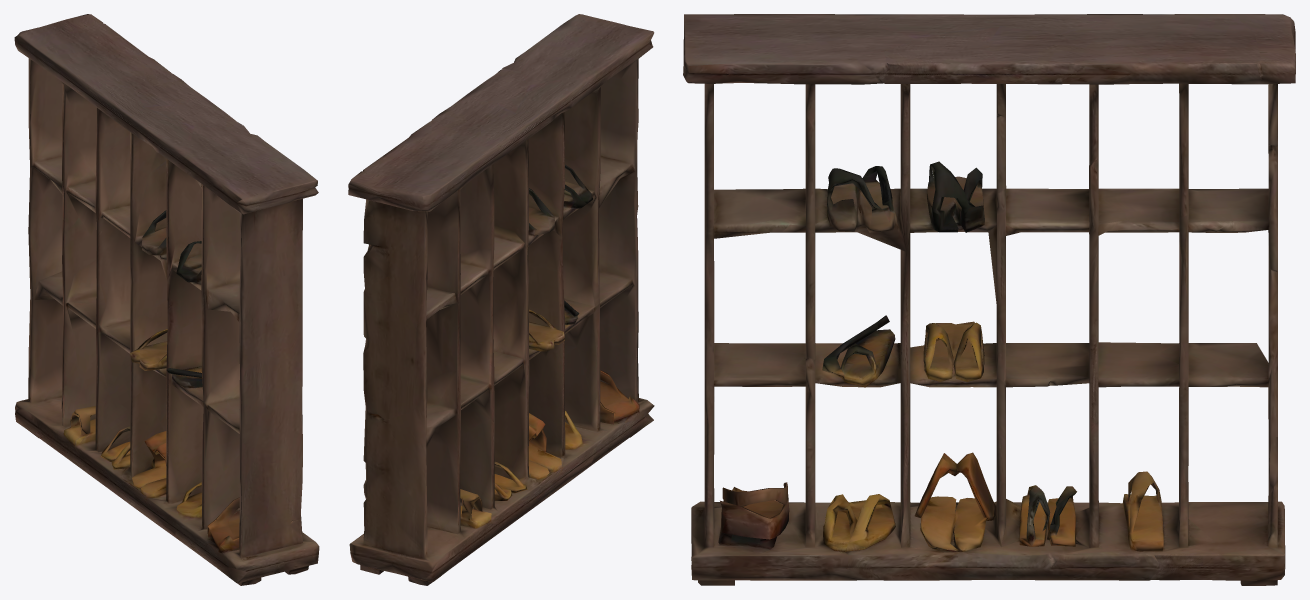
Rendered from getabako.glb.
The picture shows the model from 3 angles, left to right: view 1: azimuth 30°, elevation 25°; view 2: azimuth 150°, elevation 25°; view 3: azimuth 270°, elevation 25°; orthographic projection. The views are drawn at different scales.
Visible parts, largest first — view 1: tripo_node_d88fc85f-368e-4d0c-b570-bd2dc9dc49da; view 2: tripo_node_d88fc85f-368e-4d0c-b570-bd2dc9dc49da; view 3: tripo_node_d88fc85f-368e-4d0c-b570-bd2dc9dc49da.
Boxes of the visible parts, box(x1,y1,x2,y2) form: tripo_node_d88fc85f-368e-4d0c-b570-bd2dc9dc49da: box(14, 14, 319, 585); tripo_node_d88fc85f-368e-4d0c-b570-bd2dc9dc49da: box(348, 14, 654, 585); tripo_node_d88fc85f-368e-4d0c-b570-bd2dc9dc49da: box(683, 14, 1295, 585).
Size of the model in its own units: 0.2162 by 0.9464 by 1.
1 material, 1 textured.
